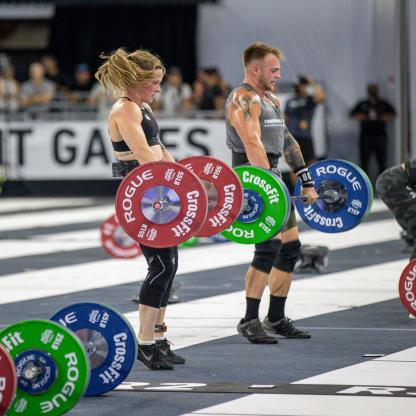barbell: (116, 162, 209, 250), (210, 167, 288, 246), (295, 160, 370, 235)
